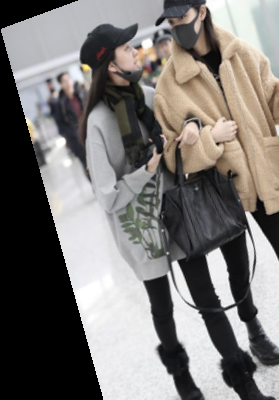mask_weared_incorrect: (73, 19, 156, 95)
